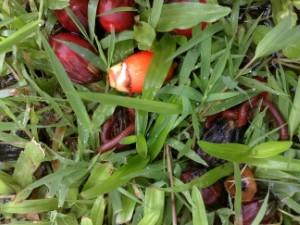earthworms: (196, 52, 290, 154), (96, 95, 152, 169)
